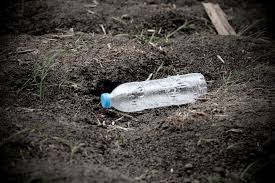plastic_bottle: (100, 73, 208, 113)
